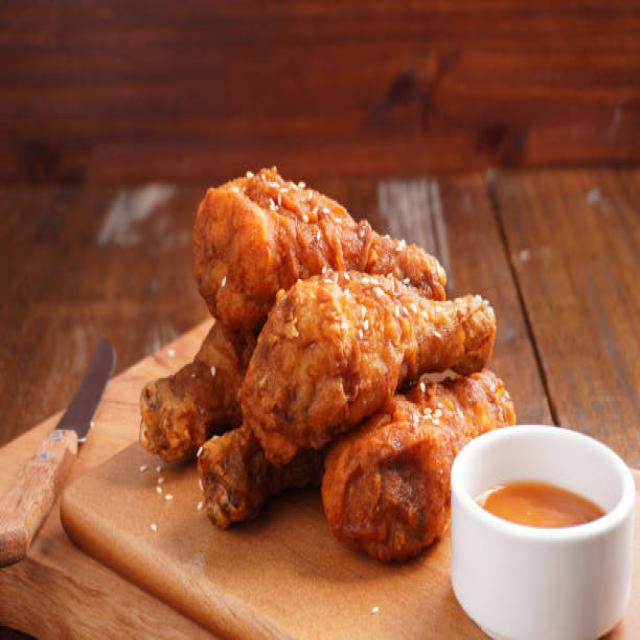CHICKEN FRY: (137, 172, 516, 560)
